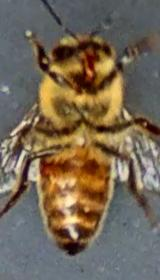varroa_mite: (36, 153, 68, 178)
